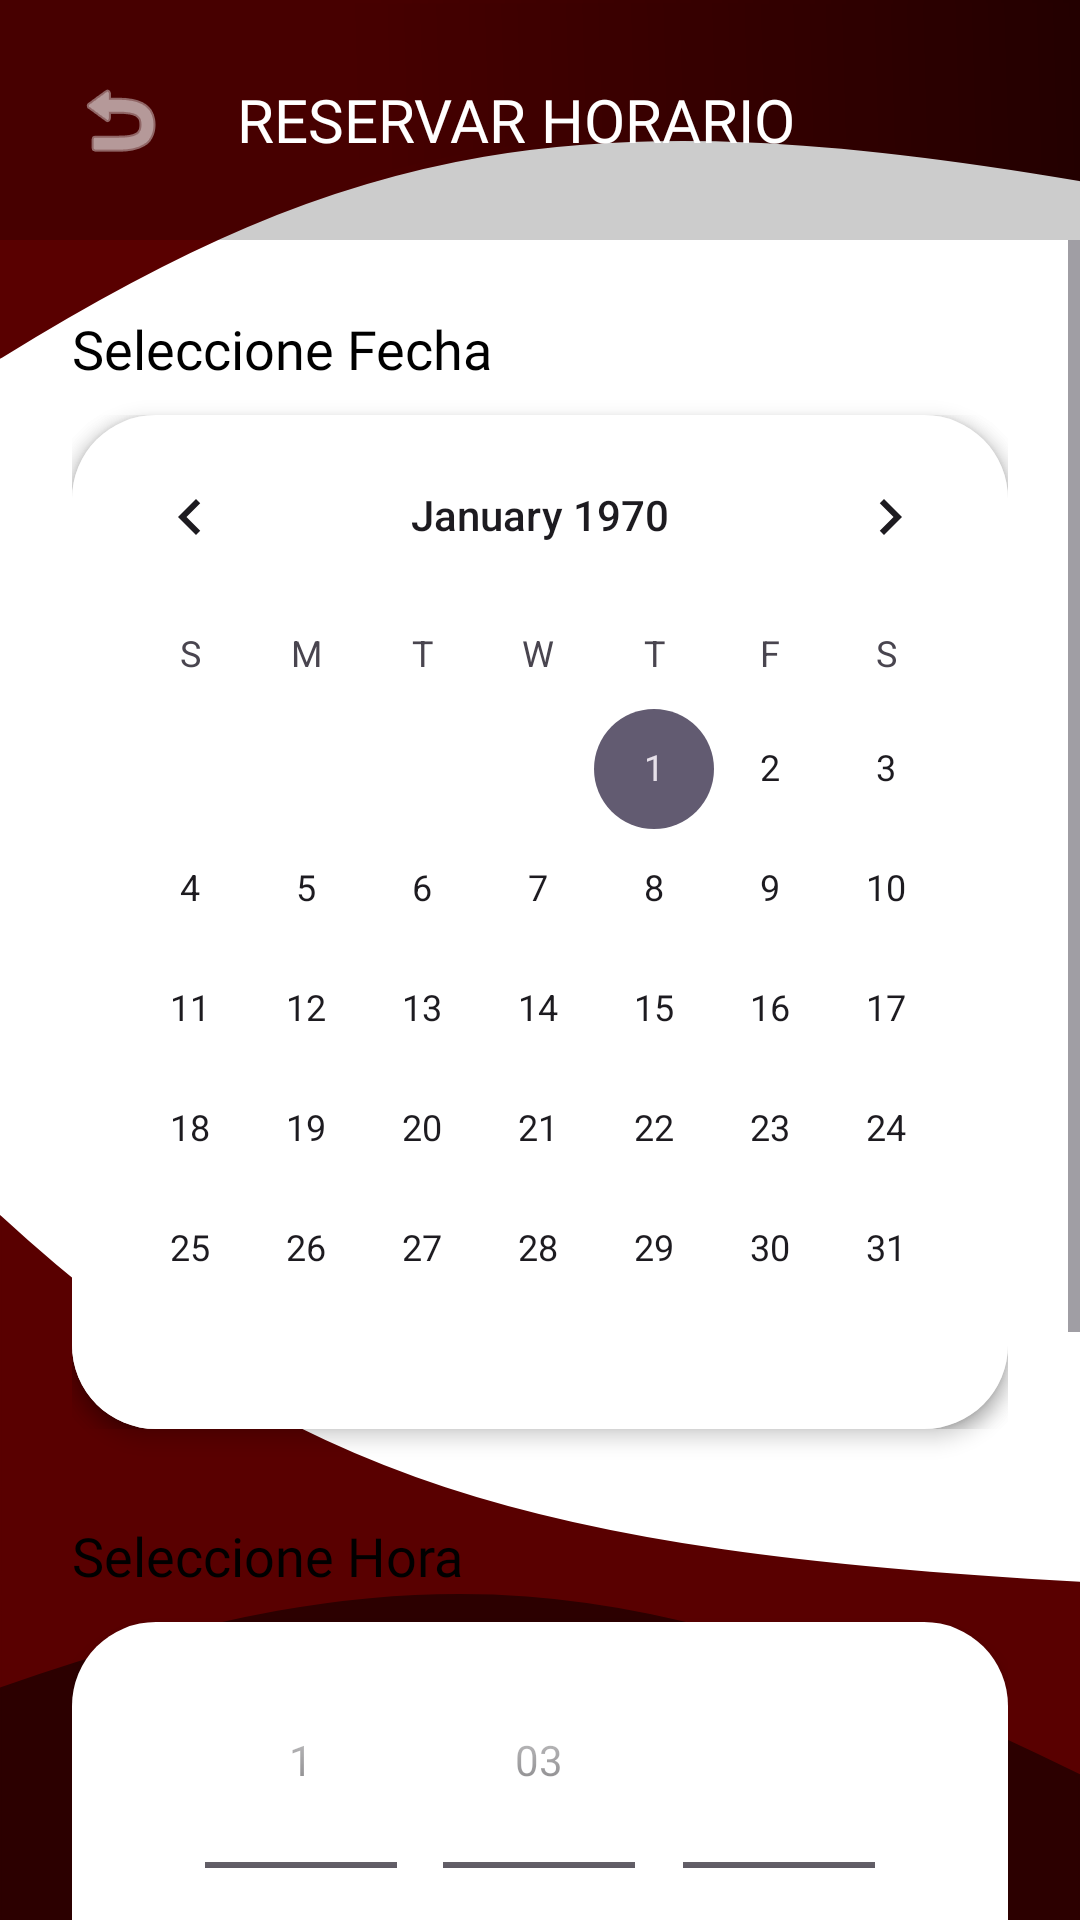

Icon click points for this 1080×1920 phone screenshot, format [x,y]:
Regresar: [121,120]
